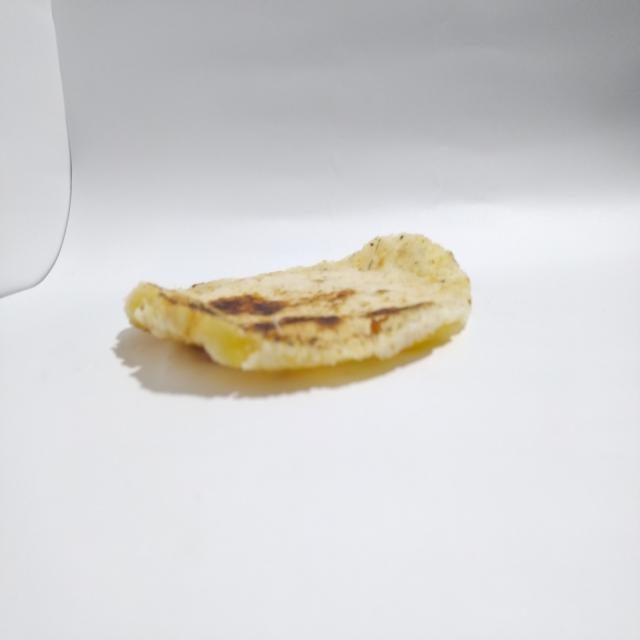Food: (121, 218, 478, 399)
